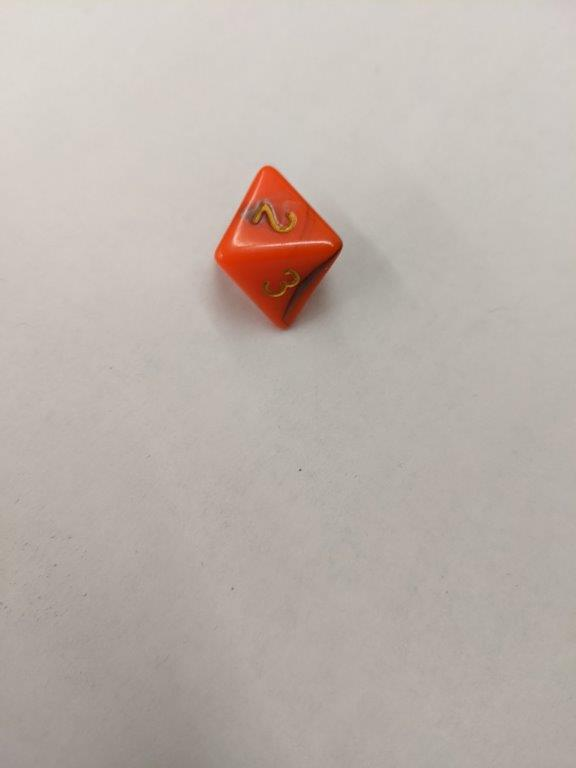d8-2: (213, 166, 342, 334)
